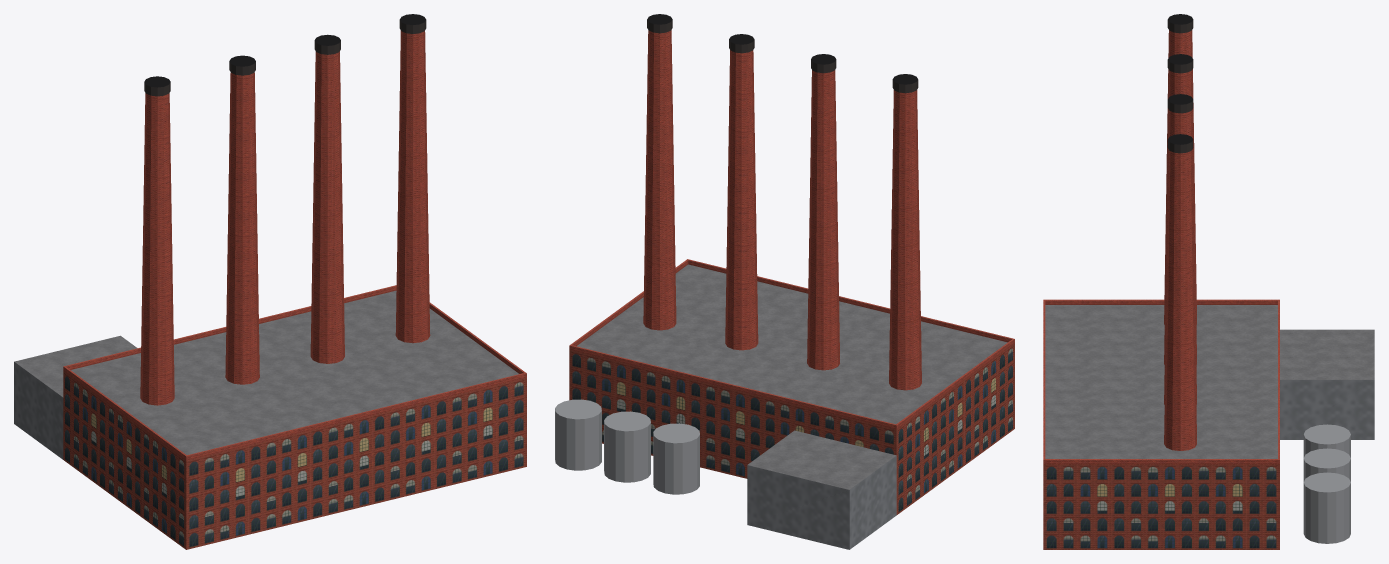
File: 089_power_plant.glb
The picture shows the model from 3 angles, left to right: view 1: azimuth 30°, elevation 25°; view 2: azimuth 150°, elevation 25°; view 3: azimuth 270°, elevation 25°; orthographic projection. The views are drawn at different scales.
Visible parts, largest first — view 1: 089_power_plant; view 2: 089_power_plant; view 3: 089_power_plant.
Boxes of the visible parts, x1,y1,x2,y2 form: 089_power_plant: [14, 14, 526, 549]; 089_power_plant: [555, 14, 1014, 549]; 089_power_plant: [1043, 14, 1374, 549].
Size of the model in its own units: 80 by 91 by 70.
Materials: 7 (4 with a texture image).
